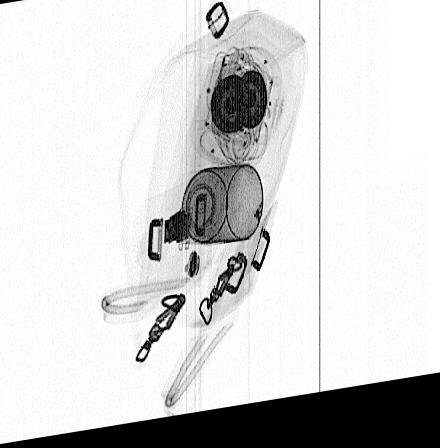Sprayer: (173, 172, 263, 252)
